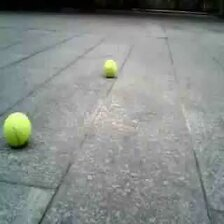tennis: (4, 112, 30, 144), (103, 59, 116, 76)
